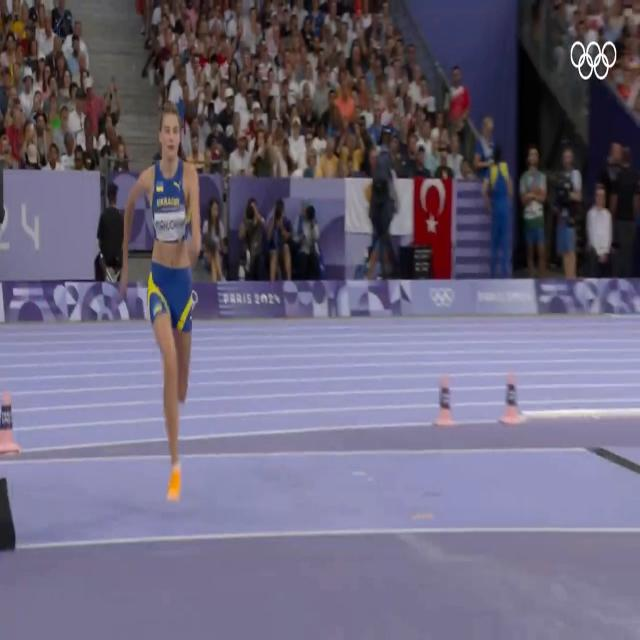run: (121, 99, 201, 502)
